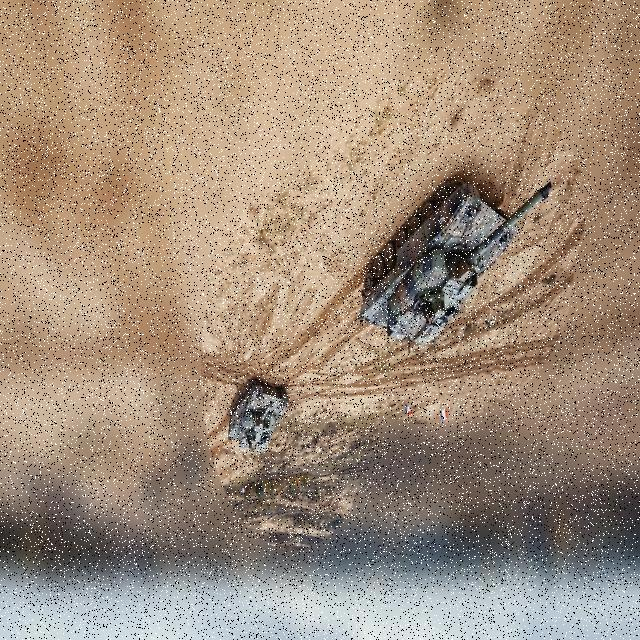MIL_MBT: (357, 180, 551, 345), (227, 380, 289, 452)
